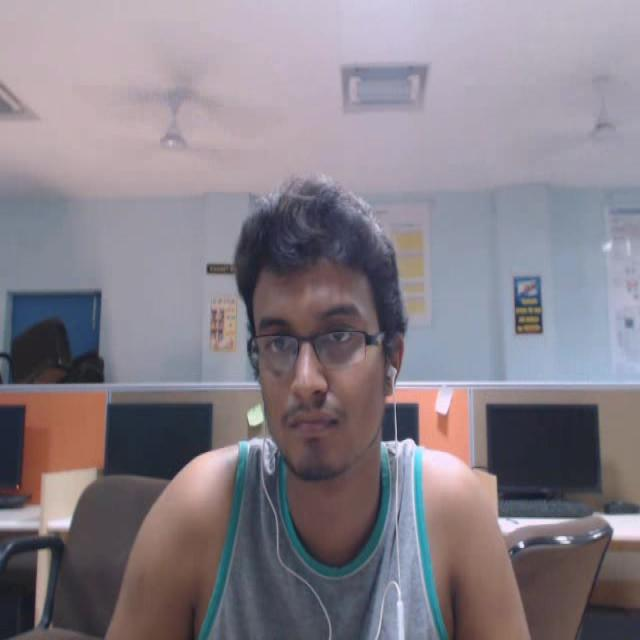Engaged: (199, 164, 426, 499)
